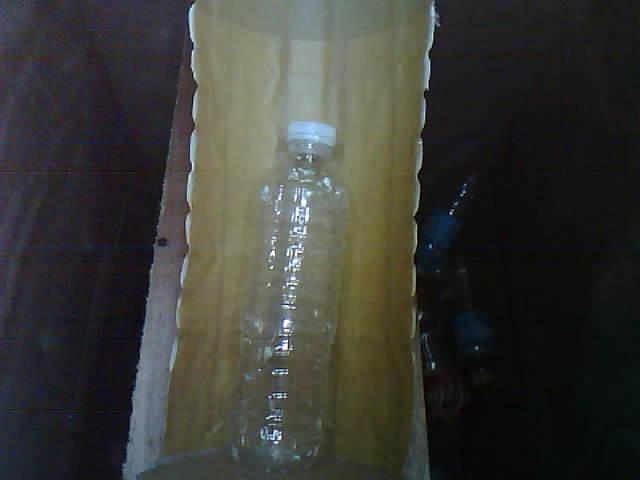small_bottle: (232, 112, 363, 478)
